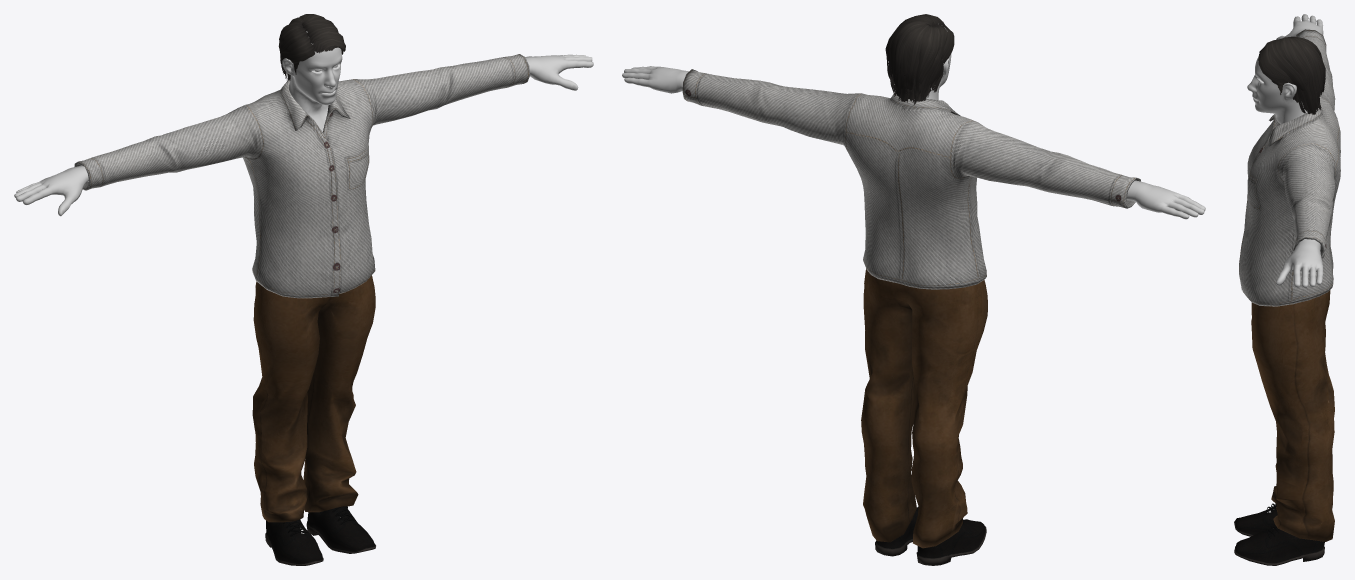
The model's file is elevnth_clothes_hair.obj.
The picture shows the model from 3 angles, left to right: view 1: azimuth 30°, elevation 25°; view 2: azimuth 150°, elevation 25°; view 3: azimuth 270°, elevation 25°; orthographic projection. The views are drawn at different scales.
Visible parts, largest first — view 1: Tops, Bottoms, Body, Shoes, Hair; view 2: Tops, Bottoms, Hair, Body, Shoes; view 3: Tops, Bottoms, Body, Hair, Shoes.
Part boxes in pixels (x1,y1,x2,y2): Tops: (74, 54, 529, 298); Bottoms: (252, 275, 375, 522); Body: (14, 31, 593, 533); Shoes: (265, 506, 375, 565); Hair: (278, 14, 345, 81); Tops: (682, 69, 1140, 289); Bottoms: (861, 268, 987, 548); Hair: (885, 14, 954, 109); Body: (622, 27, 1205, 219); Shoes: (875, 507, 986, 565); Tops: (1239, 29, 1340, 306); Bottoms: (1251, 290, 1334, 541); Body: (1247, 14, 1323, 512); Hair: (1258, 36, 1325, 115); Shoes: (1234, 503, 1324, 565).
Size of the model in its own units: 21.36 by 18.64 by 3.55.
